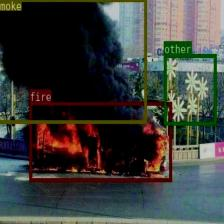fire: (30, 101, 172, 181)
smoke: (0, 0, 146, 123)
